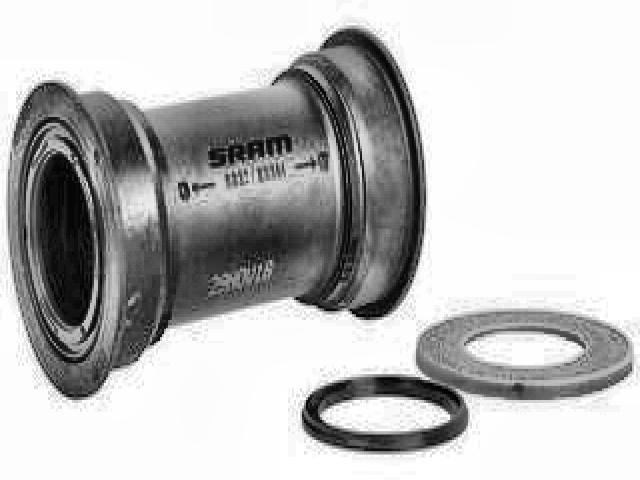bottom_bracket: (7, 20, 429, 406)
